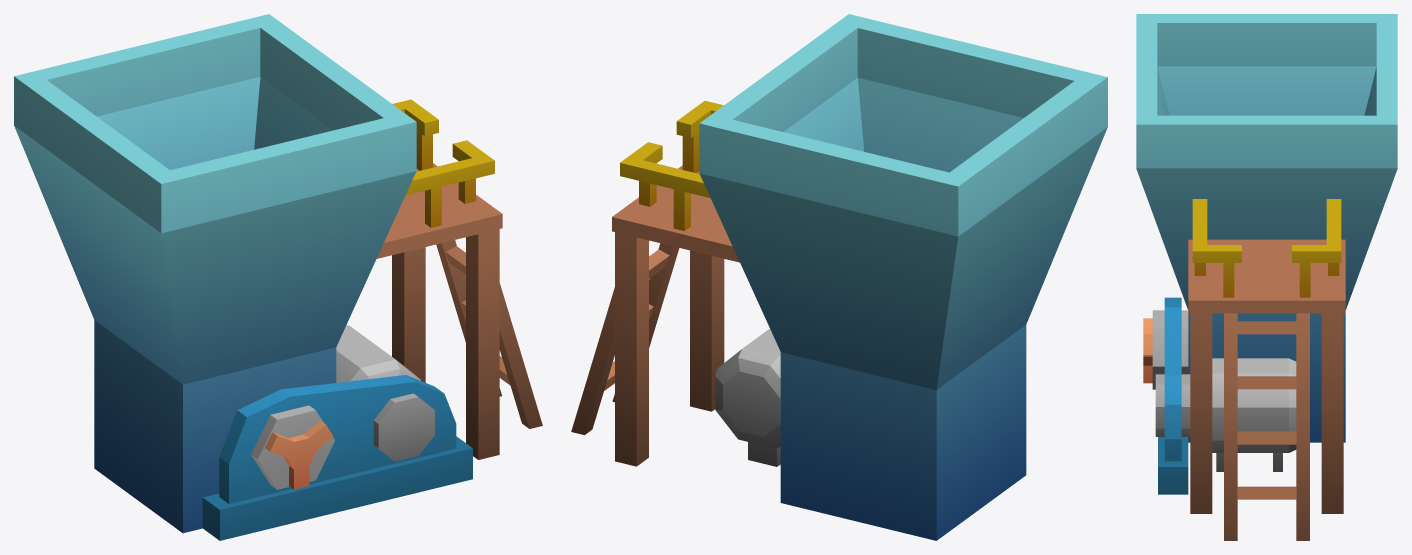
Rendered from grain processing machine.fbx.
3 views of the same model, side by side, from view 1: azimuth 30°, elevation 25°; view 2: azimuth 150°, elevation 25°; view 3: azimuth 270°, elevation 25° (orthographic). The views are drawn at different scales.
Visible parts, largest first — view 1: grain_processing_machine, gear_rotate; view 2: grain_processing_machine; view 3: grain_processing_machine, gear_rotate.
Boxes of the visible parts, x1=… form: grain_processing_machine: x1=14, y1=14, x2=542, y2=540; gear_rotate: x1=251, y1=405, x2=334, y2=489; grain_processing_machine: x1=571, y1=14, x2=1107, y2=540; grain_processing_machine: x1=1136, y1=14, x2=1397, y2=540; gear_rotate: x1=1143, y1=310, x2=1188, y2=389.
Size of the model in its own units: 716 by 608 by 424.
1 material, 1 textured.
